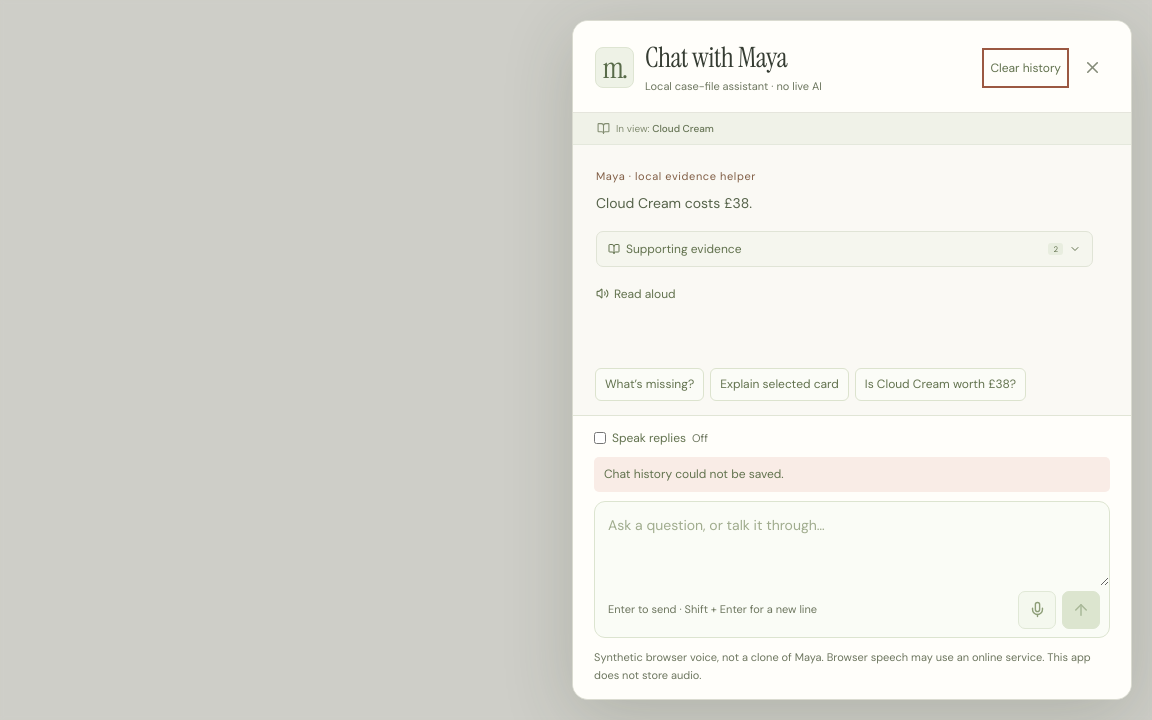
Test: Chat panel with simulated browser speech APIs › links only case-file sources and displays storage failure feedback inside the chat
Expected: the message "Chat history could not be saved." is shown, [594,457,1110,492]
Step 1. Click the heading "Supporting evidence 2" → (684, 249), box [608,241,1081,257]
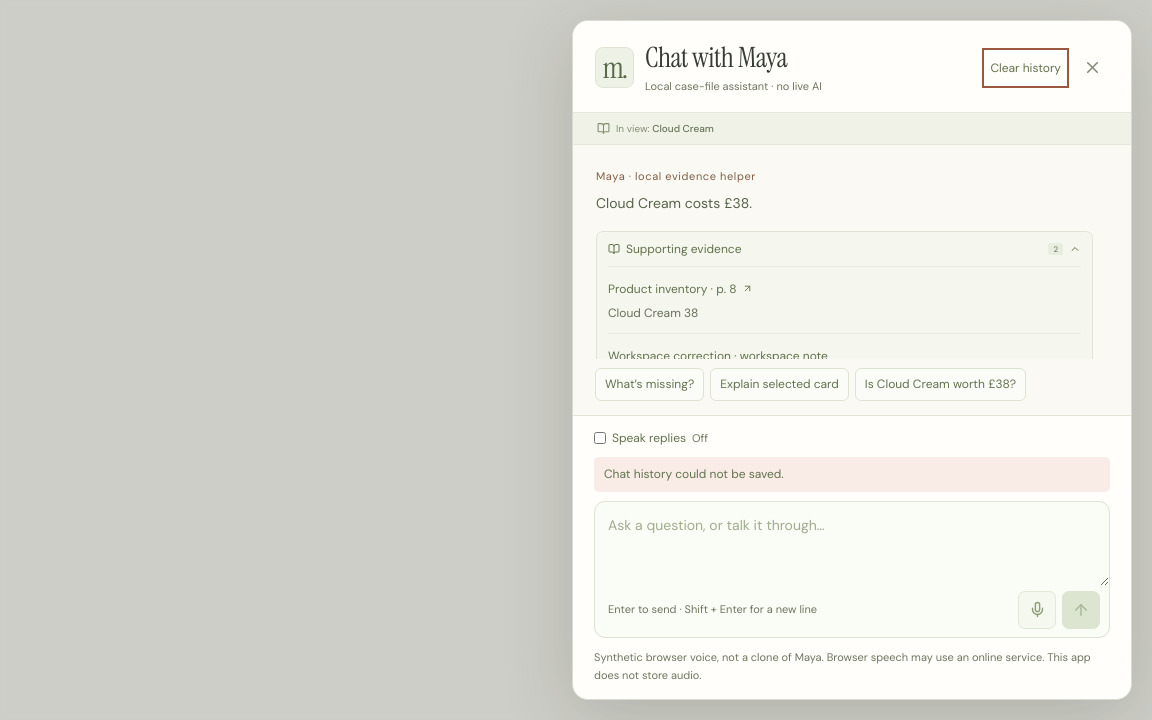
Expected: the text "Cloud Cream" is shown, [652,122,714,135]
Expected: the number of links is 1, [608,281,753,297]
Expected: the text "Workspace correction · workspace note" is shown, [608,348,828,359]
